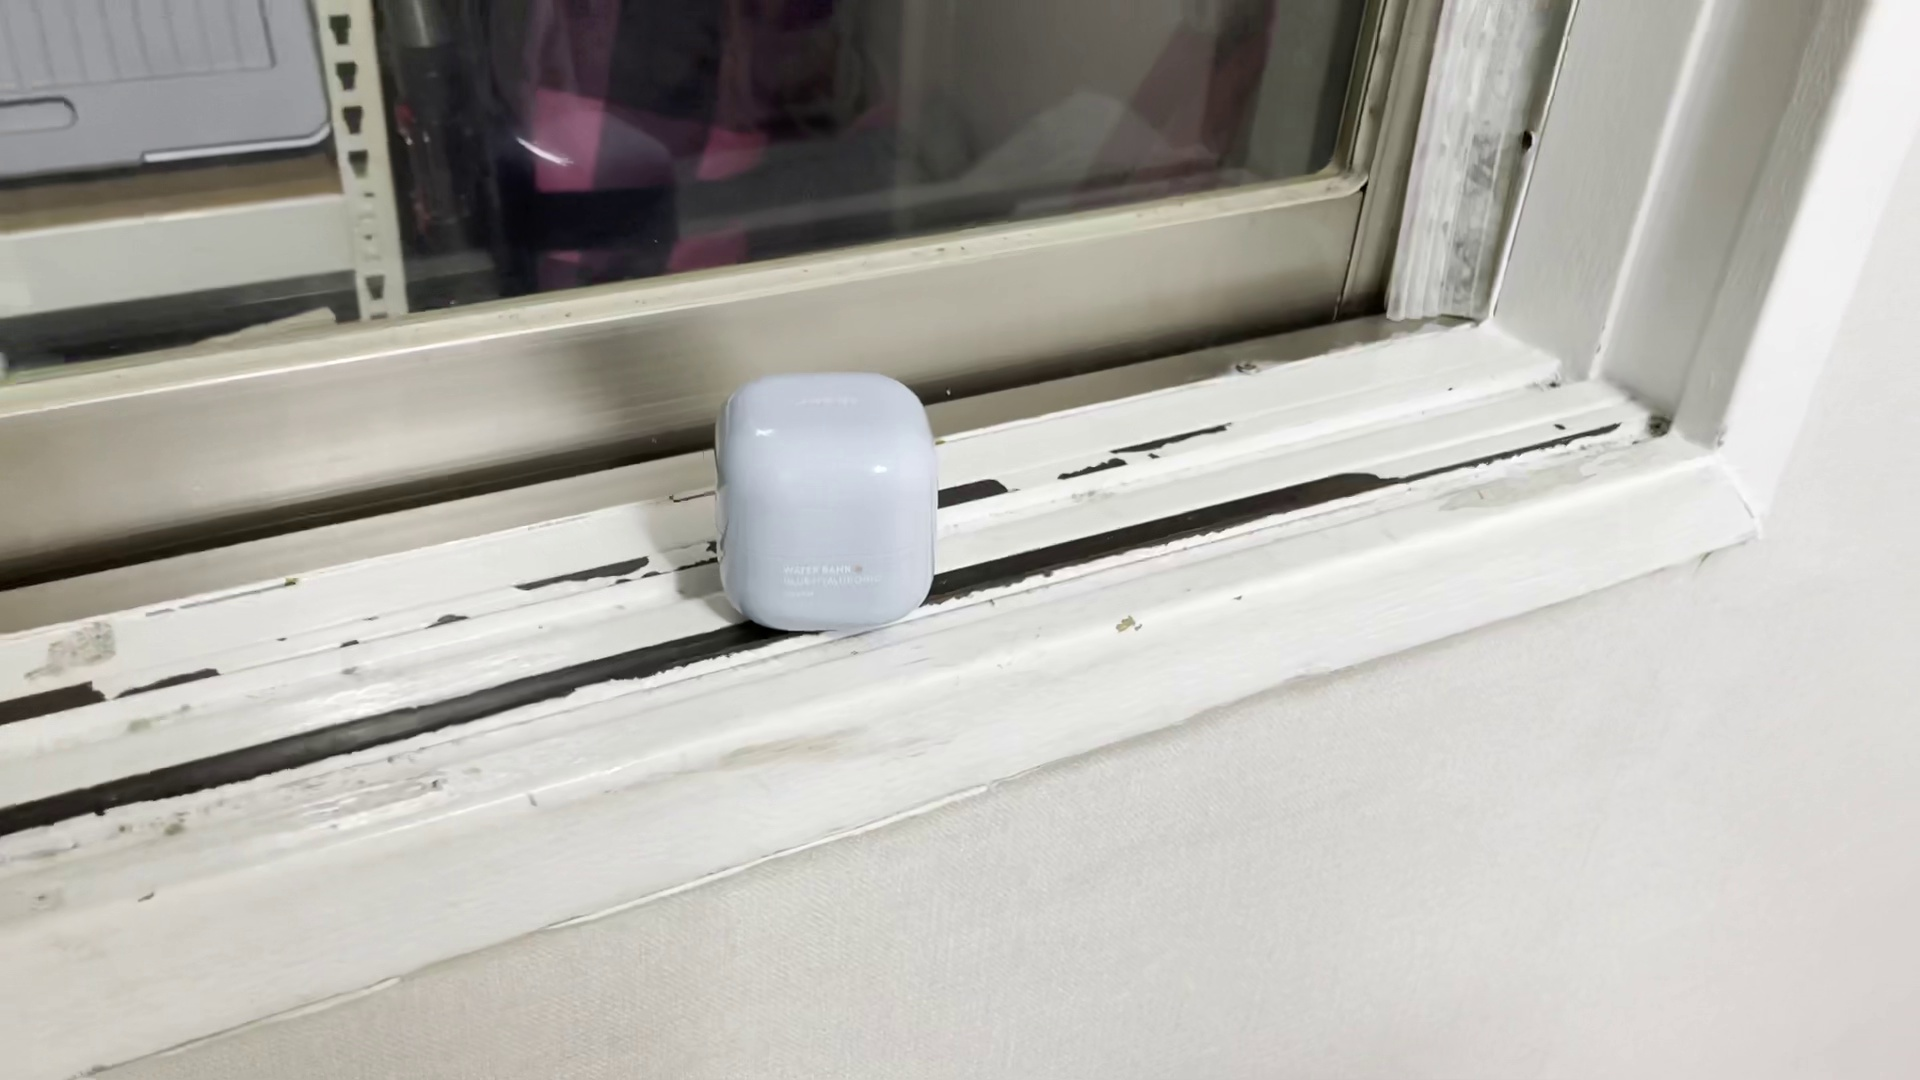cream: (713, 372, 936, 629)
